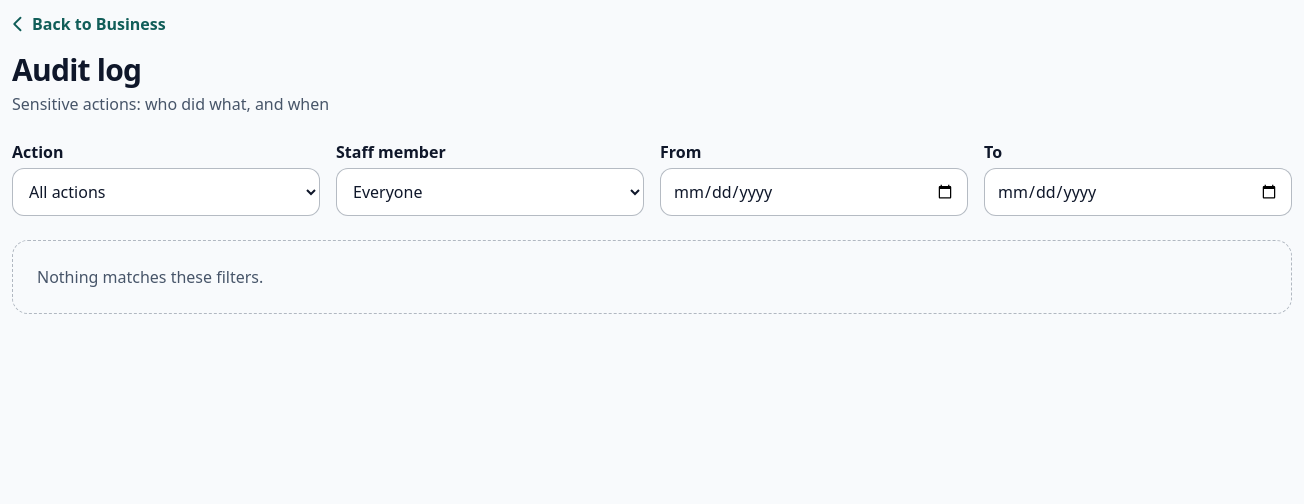
AuditLogPage › sends whole Manila days for date filters and does not fetch a reversed range
Check: the text "Nothing matches these filters." is shown, box x1=12 y1=240 x2=1292 y2=314
Type "2026-09-01" into the date field labelled "From" at (814, 192), box x1=660 y1=168 x2=968 y2=216
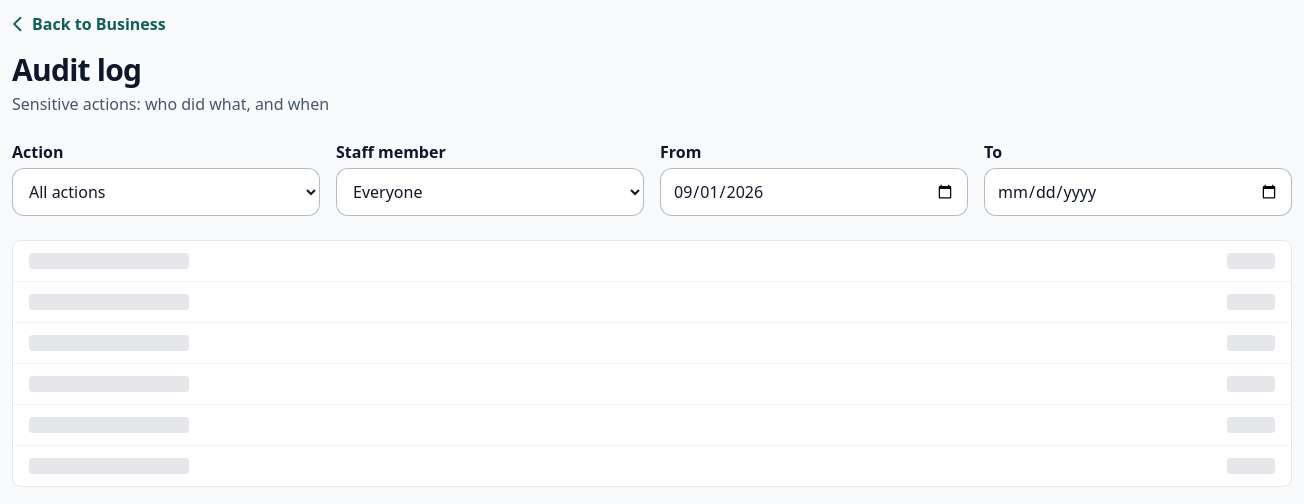
Type "2026-08-01" into the date field labelled "To" at (1138, 192), box x1=984 y1=168 x2=1292 y2=216
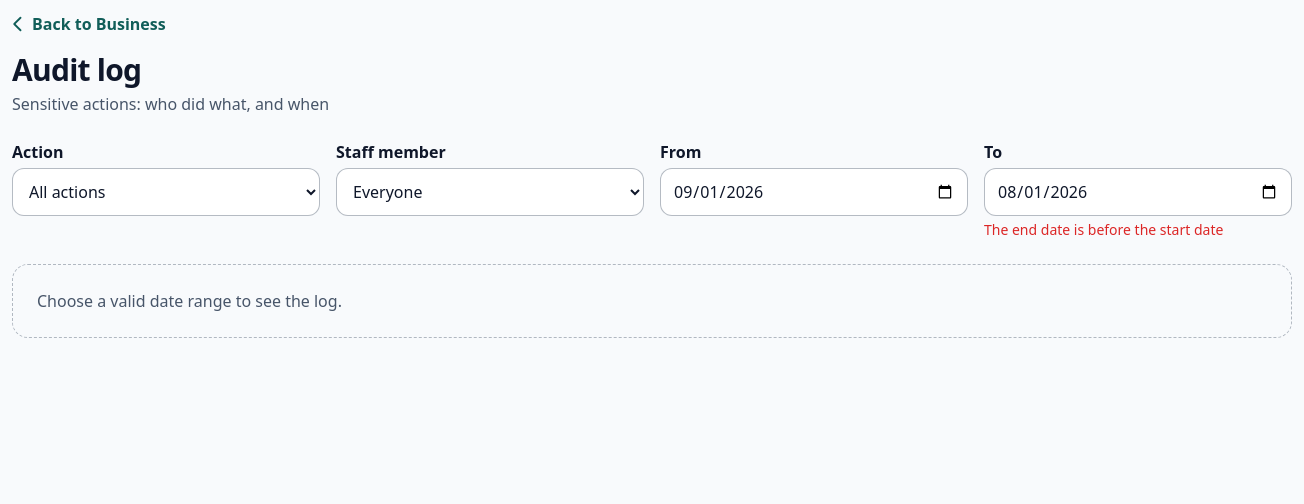
Check: the text "The end date is before the start date" is shown, box x1=984 y1=220 x2=1223 y2=239
Check: the text "Choose a valid date range to see the log." is shown, box x1=12 y1=264 x2=1292 y2=338
